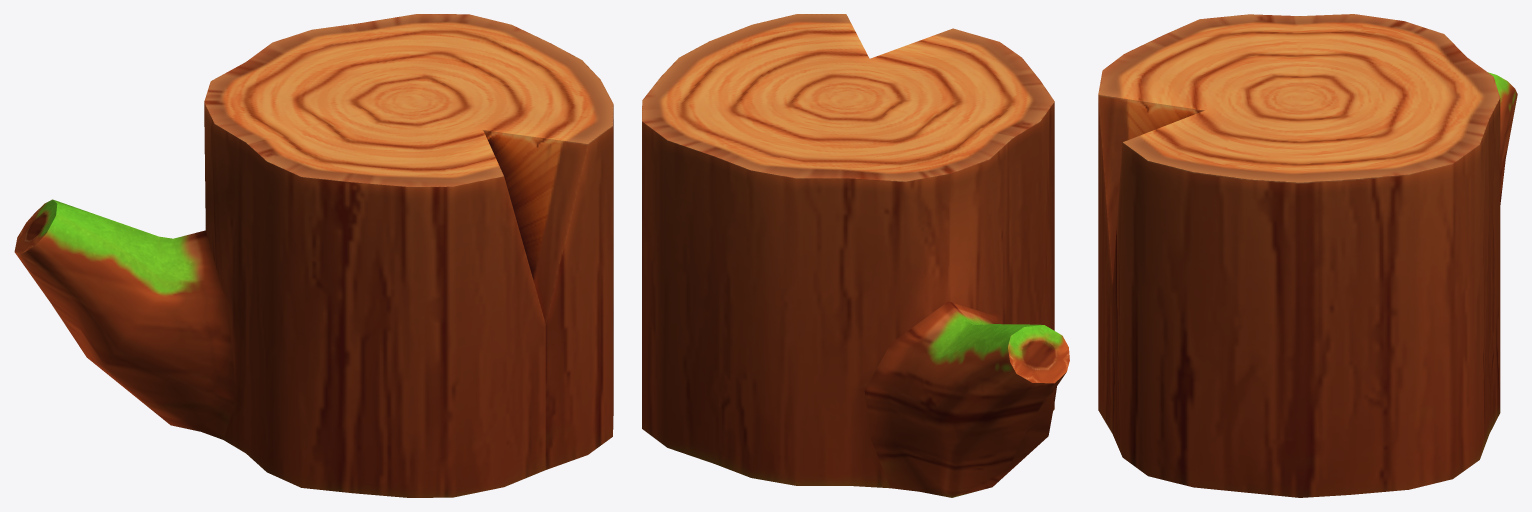
File: Stump03.FBX
3 renders of one model, left to right at view 1: azimuth 30°, elevation 25°; view 2: azimuth 150°, elevation 25°; view 3: azimuth 270°, elevation 25°, orthographic. The views are drawn at different scales.
Visible parts, largest first — view 1: Stump03; view 2: Stump03; view 3: Stump03.
Part boxes in pixels (x1,y1,x2,y2): Stump03: (14, 14, 613, 497); Stump03: (642, 14, 1069, 497); Stump03: (1098, 14, 1517, 497).
Size of what is drawn, in the model's own units: 0.7222 by 0.45 by 0.5427.
